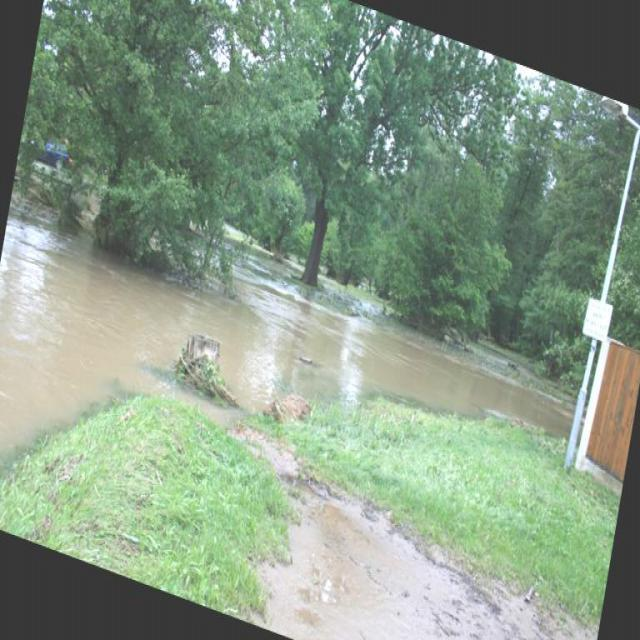flood: (0, 176, 580, 624)
